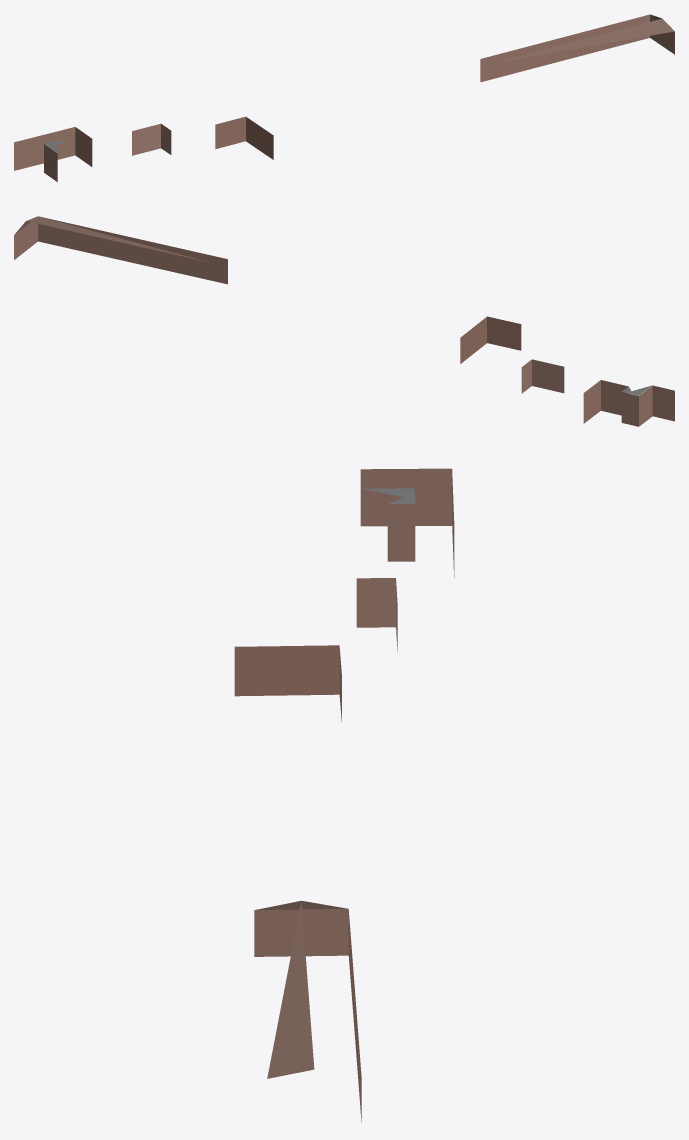
The model's file is c_1640_17834_buildings_residential.glb.
3 renders of one model, top to bottom at view 1: azimuth 30°, elevation 25°; view 2: azimuth 150°, elevation 25°; view 3: azimuth 270°, elevation 25°, orthographic. The views are drawn at different scales.
Visible parts, largest first — view 1: geometry_0; view 2: geometry_0; view 3: geometry_0.
Part boxes in pixels (x1,y1,x2,y2): geometry_0: (14,14,674,181); geometry_0: (14,216,674,426); geometry_0: (234,468,454,1122).
Bounding box in the file's own units: 247 × 11.08 × 38.32.
